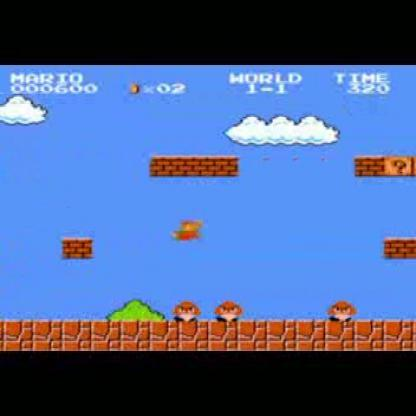Goomba: (324, 297, 358, 322), (212, 297, 242, 322), (172, 298, 200, 324)
